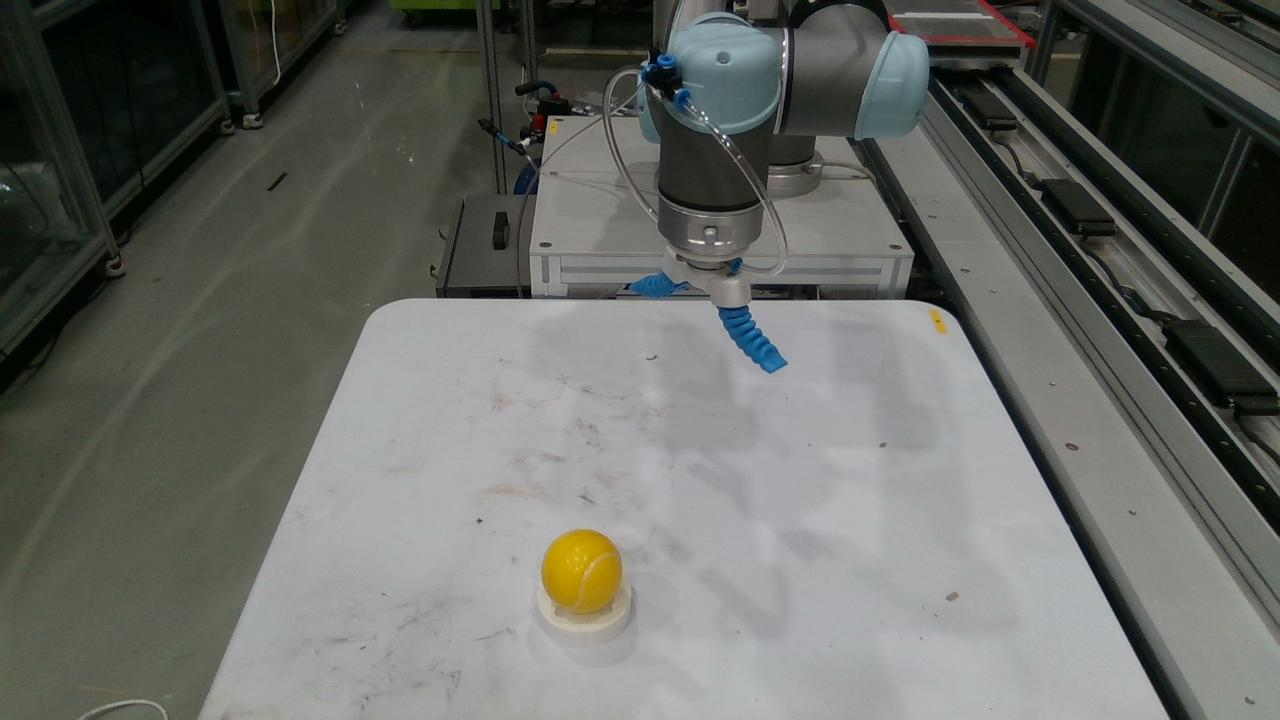UR5: (636, 0, 929, 307)
gripper_left: (628, 273, 688, 298)
gripper_right: (716, 305, 787, 372)
target: (541, 529, 622, 613), (536, 584, 631, 644)
